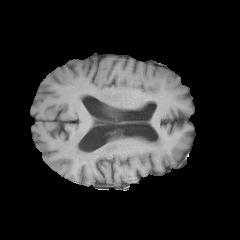glioma: (74, 137, 164, 172)
